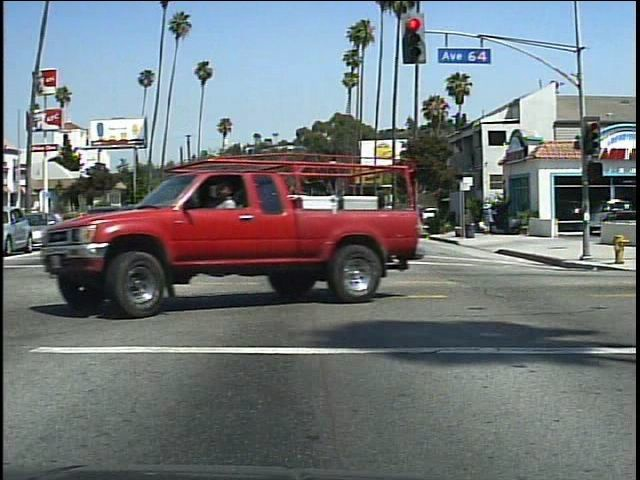person: (212, 176, 253, 301), (480, 199, 499, 237)
